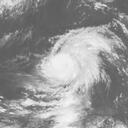cyclone: (39, 25, 111, 90)
